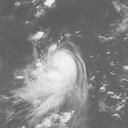cyclone: (35, 50, 88, 106)
